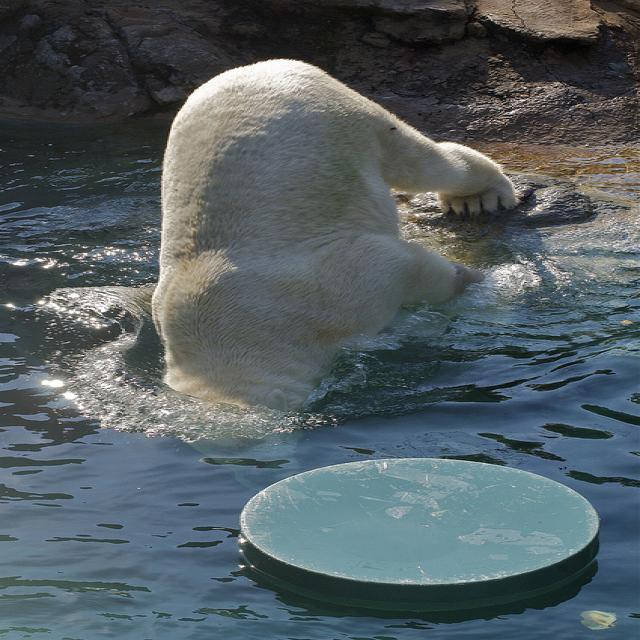Bear: (117, 48, 523, 442)
